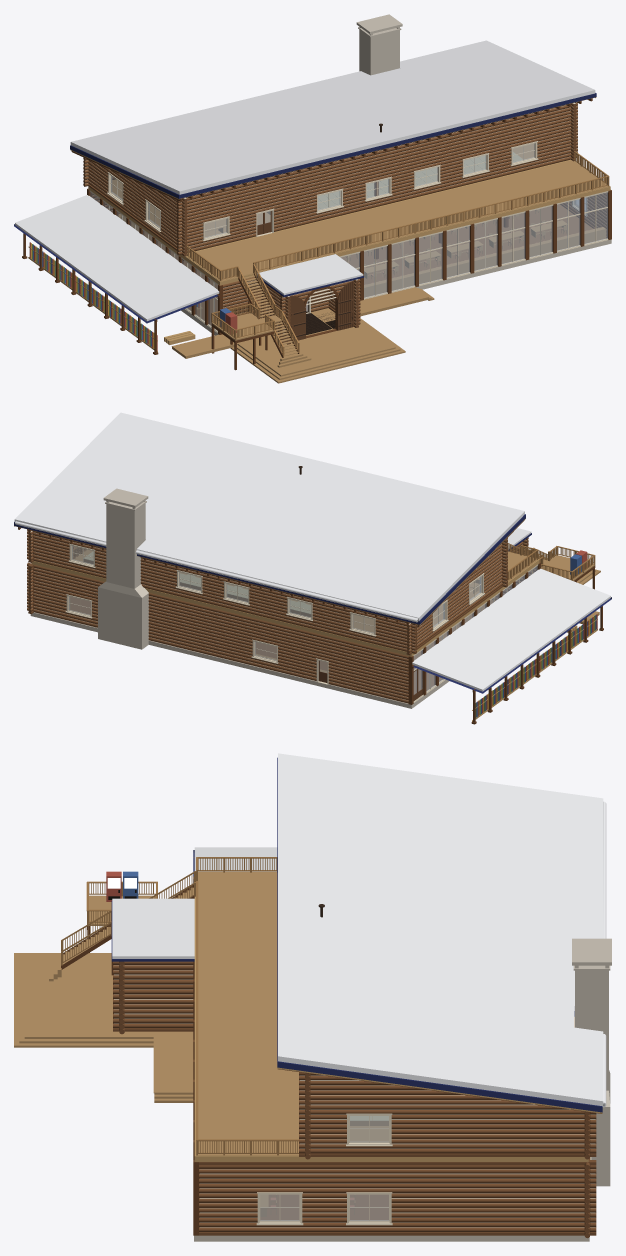
Rendered from lodge.glb.
The picture shows the model from 3 angles, top to bottom: view 1: azimuth 30°, elevation 25°; view 2: azimuth 150°, elevation 25°; view 3: azimuth 270°, elevation 25°; orthographic projection. The views are drawn at different scales.
Visible parts, largest first — view 1: lodge_body, lodge_props_interior; view 2: lodge_body, lodge_props_interior; view 3: lodge_body, lodge_props_interior.
Boxes of the visible parts, x1,y1,x2,y2 form: lodge_body: (14, 14, 611, 383); lodge_props_interior: (118, 152, 606, 334); lodge_body: (14, 412, 611, 724); lodge_props_interior: (69, 547, 587, 694); lodge_body: (14, 753, 611, 1241); lodge_props_interior: (106, 871, 388, 1220).
Bounding box in the file's own units: 53.59 × 15.74 × 38.9.
